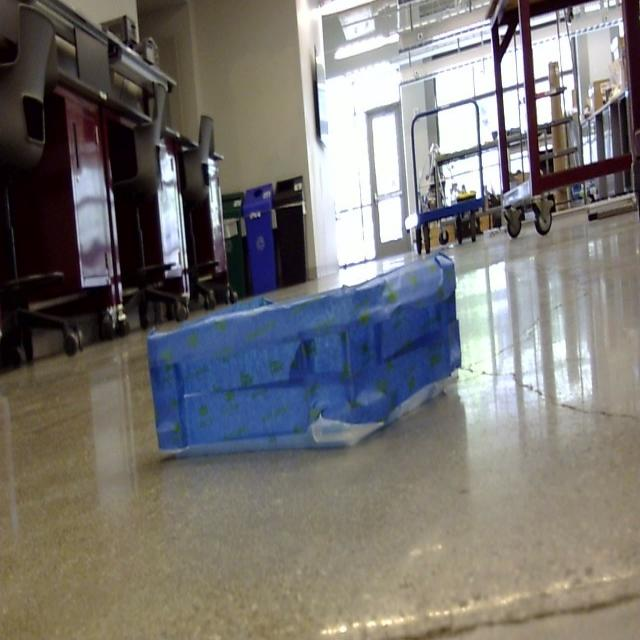bucket: (146, 254, 462, 460)
